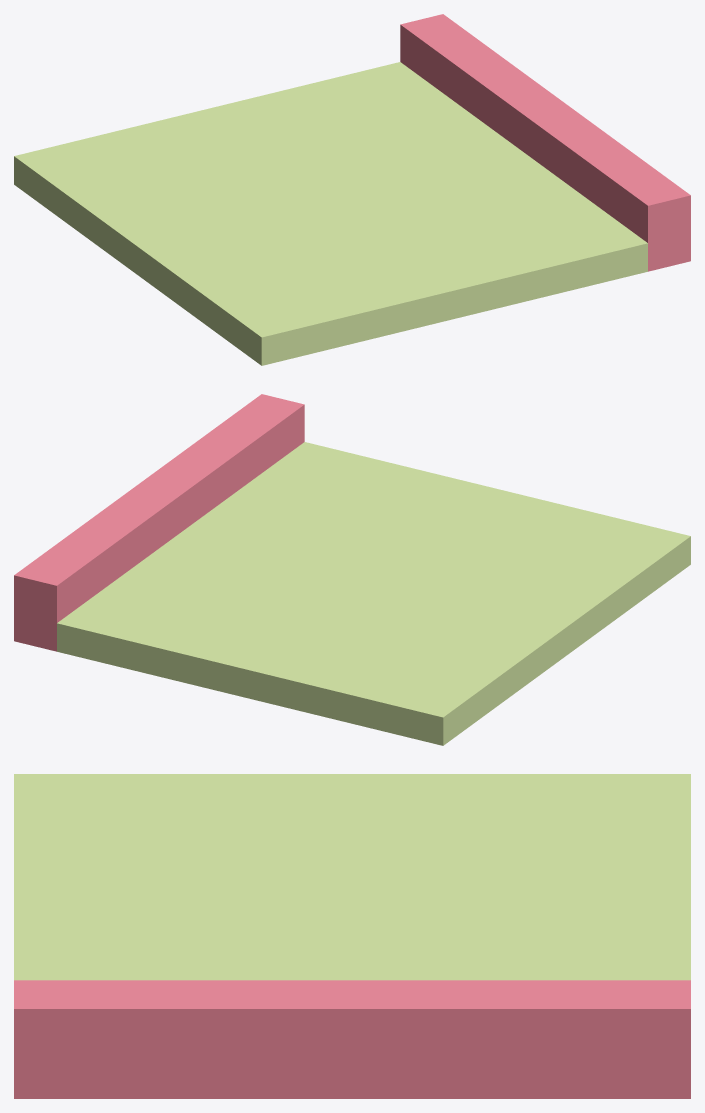
Rendered from side.fbx.
3 renders of one model, top to bottom at view 1: azimuth 30°, elevation 25°; view 2: azimuth 150°, elevation 25°; view 3: azimuth 270°, elevation 25°, orthographic. The views are drawn at different scales.
Parts seen in each view (by area): view 1: side; view 2: side; view 3: side.
Part boxes in pixels (x1=…): side: x1=14, y1=14, x2=690, y2=365; side: x1=14, y1=394, x2=690, y2=745; side: x1=14, y1=774, x2=690, y2=1098.
Bounding box in the file's own units: 99.99 × 14.67 × 99.99.
